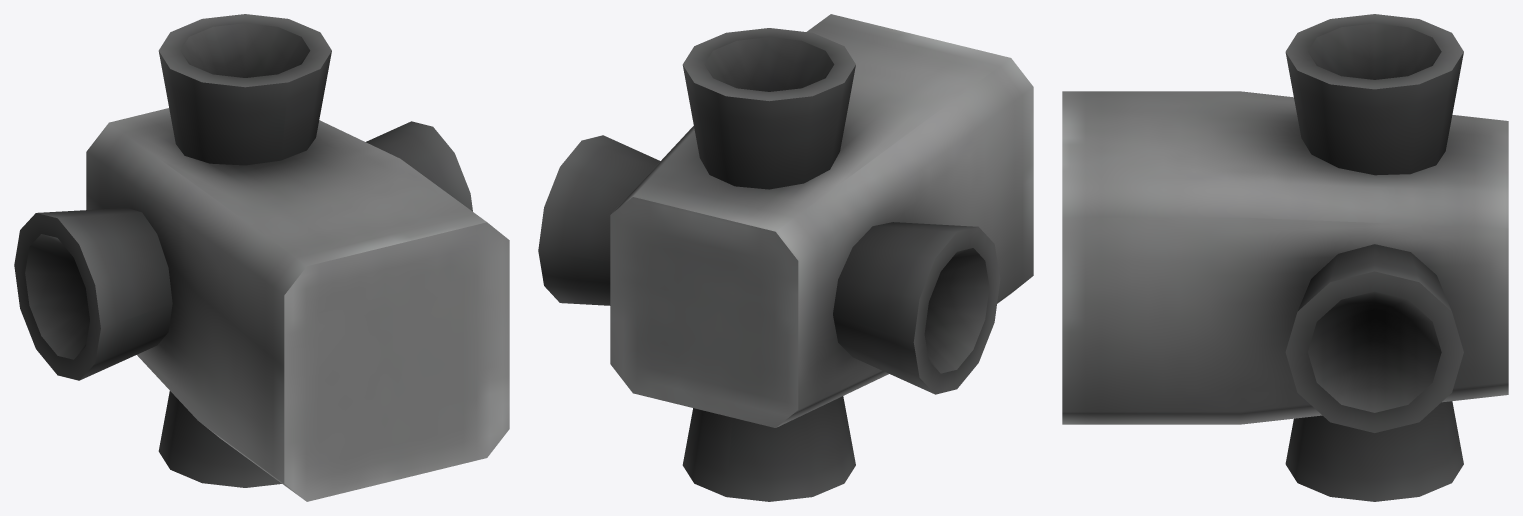
Rendered from octans_rcs_srf_4.obj.
3 views of the same model, side by side, from view 1: azimuth 30°, elevation 25°; view 2: azimuth 150°, elevation 25°; view 3: azimuth 270°, elevation 25° (orthographic). The views are drawn at different scales.
Visible parts, largest first — view 1: mesh; view 2: mesh; view 3: mesh.
Boxes of the visible parts, bbox=[...] form: mesh: bbox=[14, 14, 509, 501]; mesh: bbox=[538, 14, 1033, 501]; mesh: bbox=[1062, 14, 1508, 501].
Size of the model in its own units: 0.125 by 0.1275 by 0.125.
Materials: 1 (1 with a texture image).
